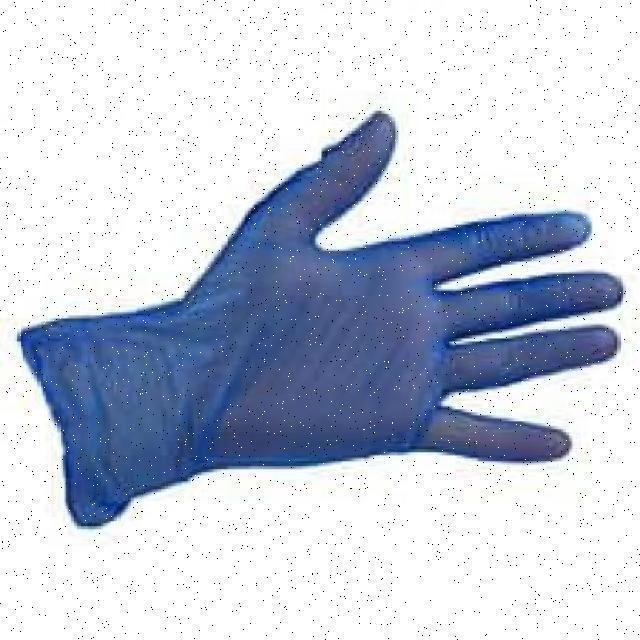Guantes: (16, 110, 625, 527)
